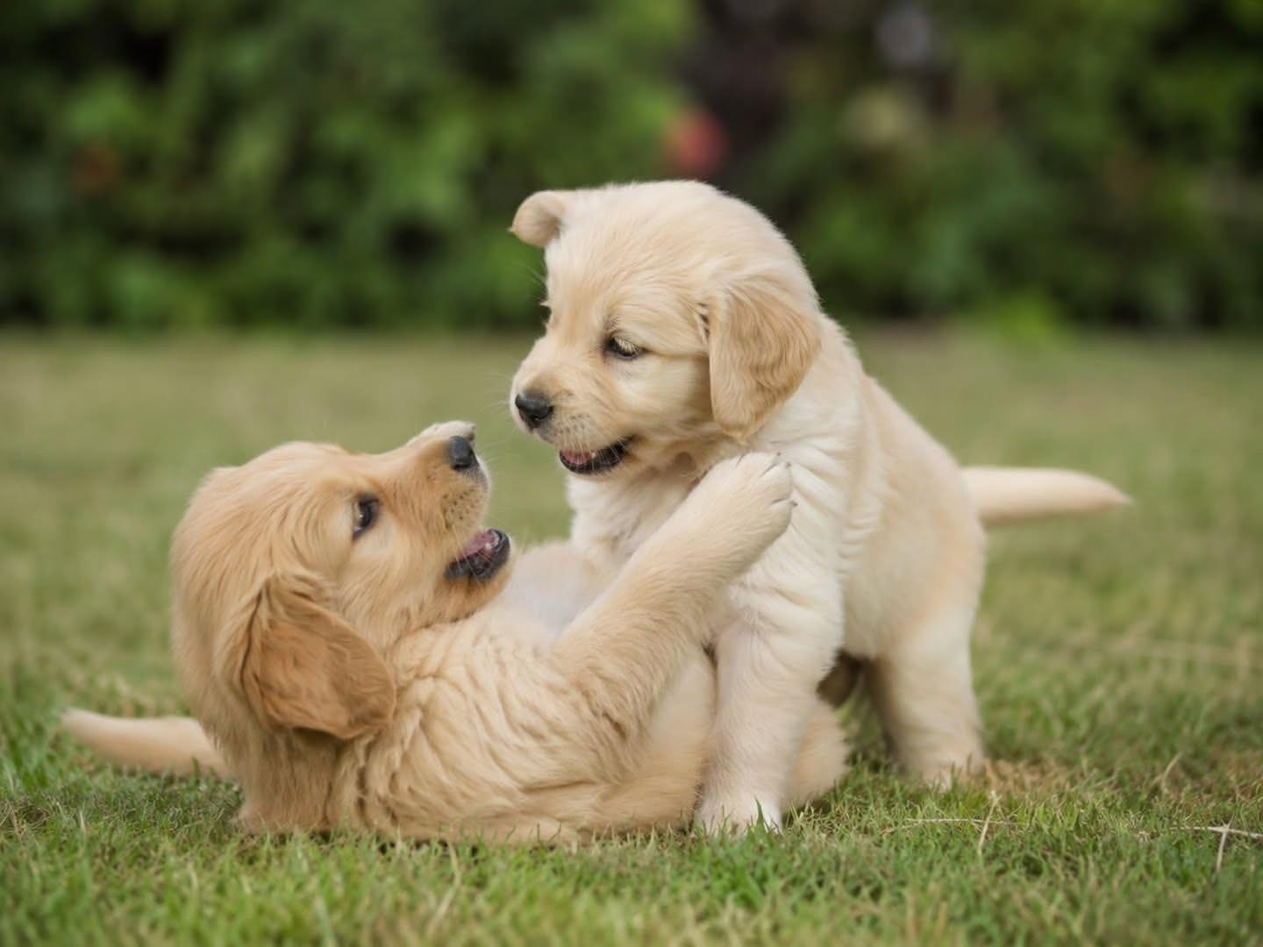puppy-dog: (505, 179, 1135, 837), (64, 419, 855, 846)
